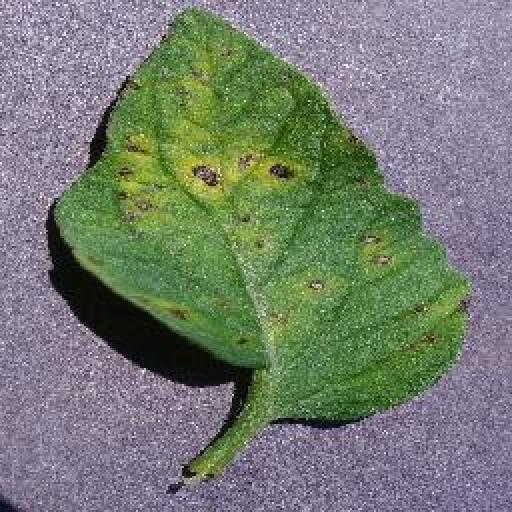Septoria: (52, 8, 470, 420)
